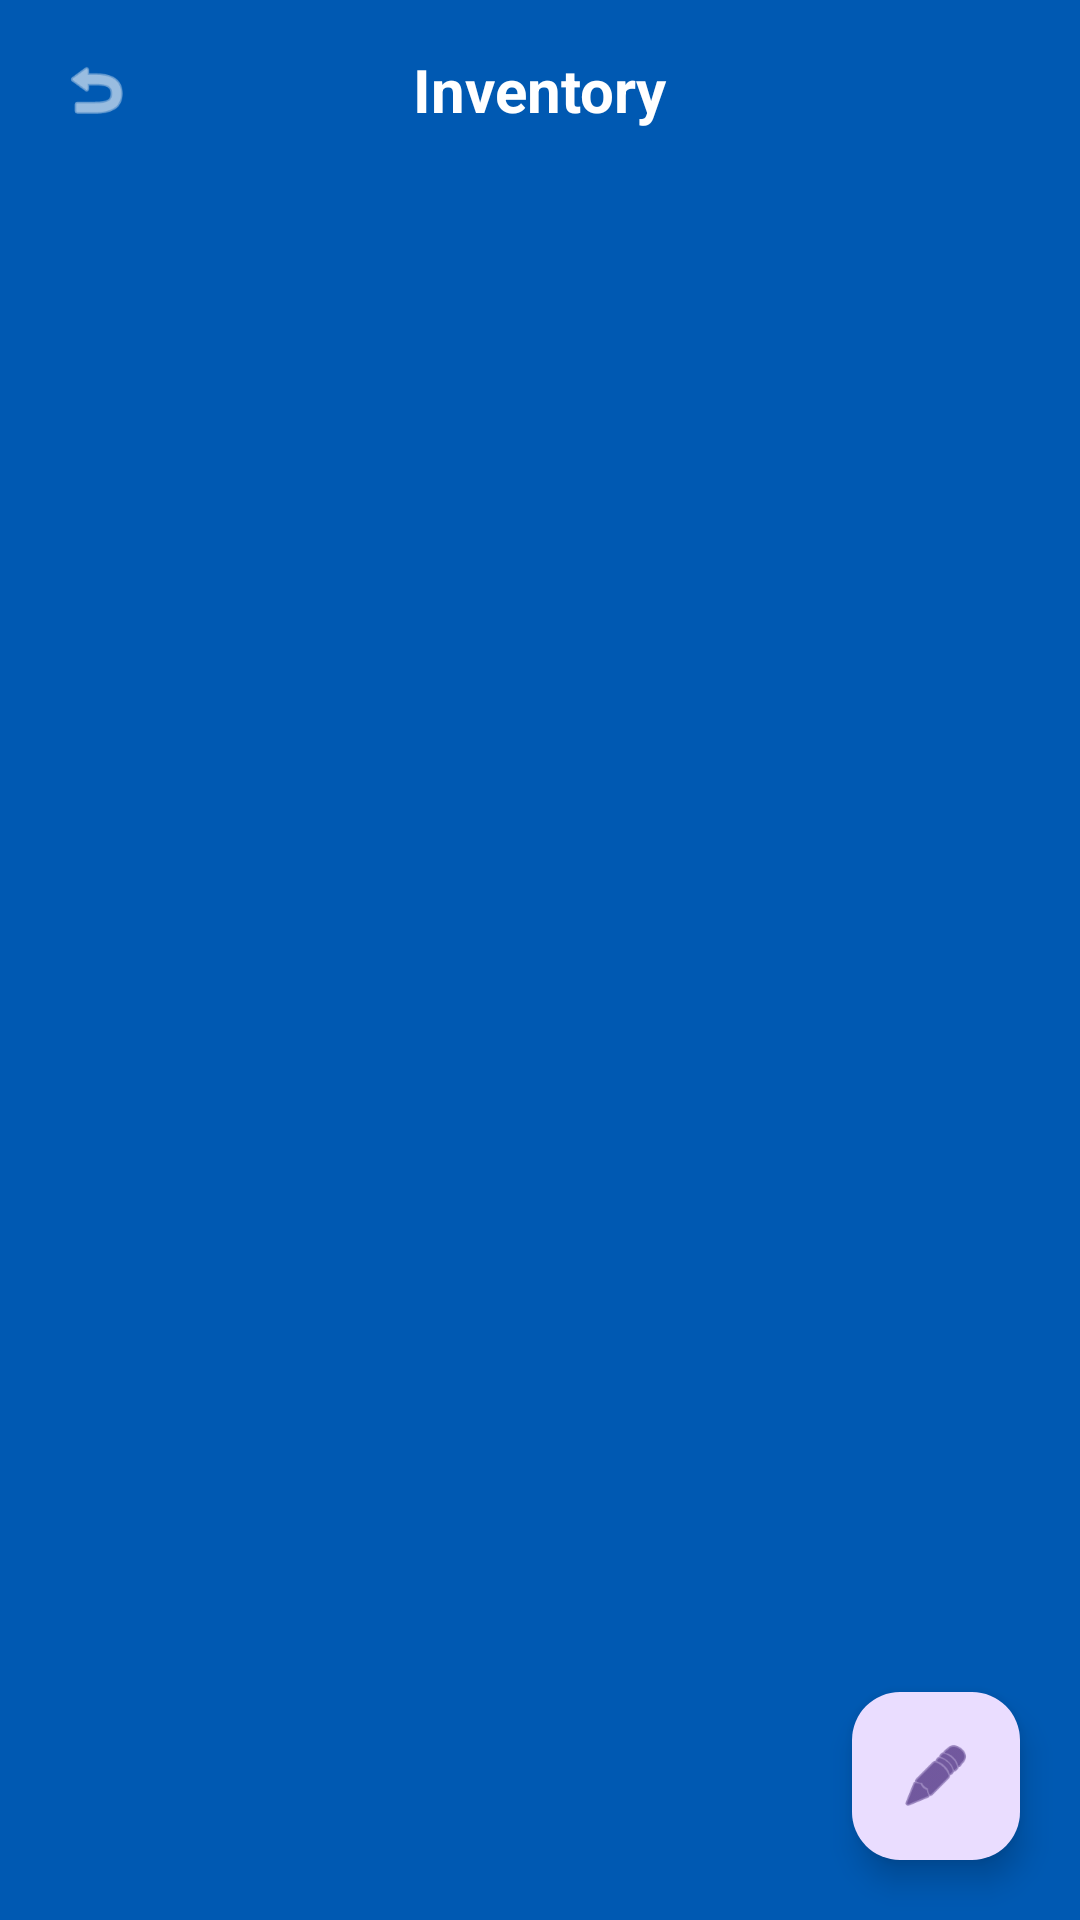

Named icons in this screenshot (1080px x 1920px) and their centers, [x,y]:
edit: [936,1776]
revert: [97,90]
